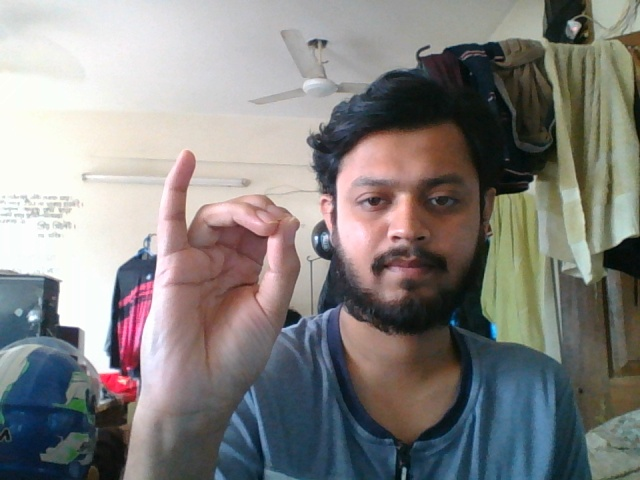ou: (142, 144, 303, 444)
